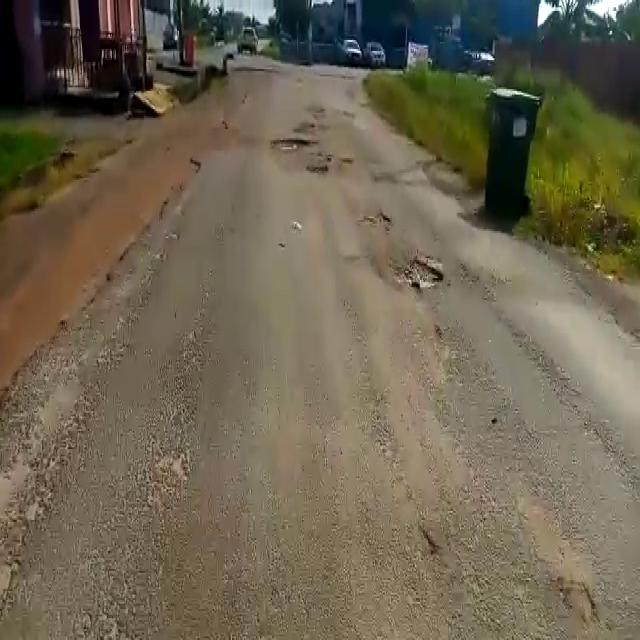Pothole: (384, 251, 446, 295), (270, 133, 311, 150), (304, 157, 336, 175)
